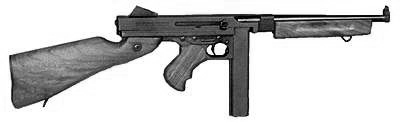rifle: (5, 1, 390, 123)
